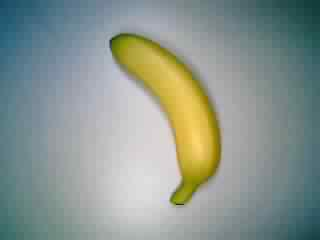banana: (106, 33, 223, 206)
